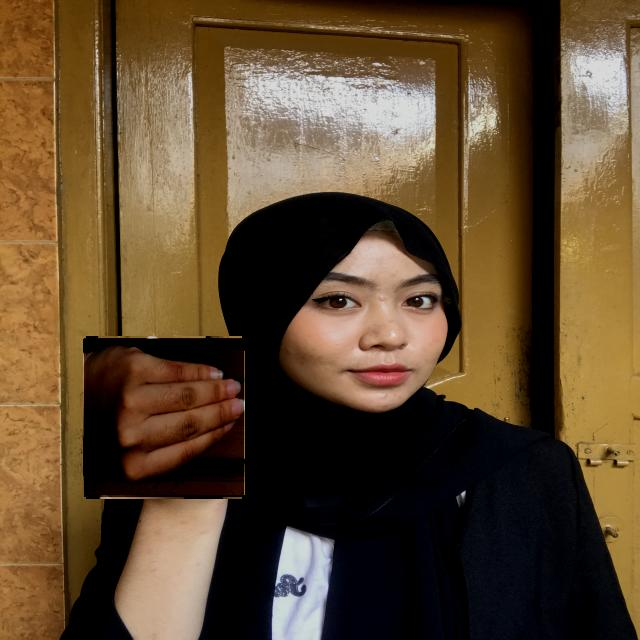berapa: (84, 338, 244, 497)
